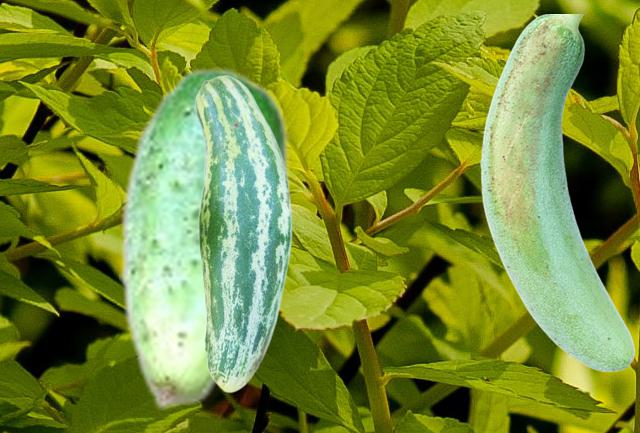cucumber: (119, 65, 288, 409), (480, 14, 634, 371), (194, 74, 291, 392)
